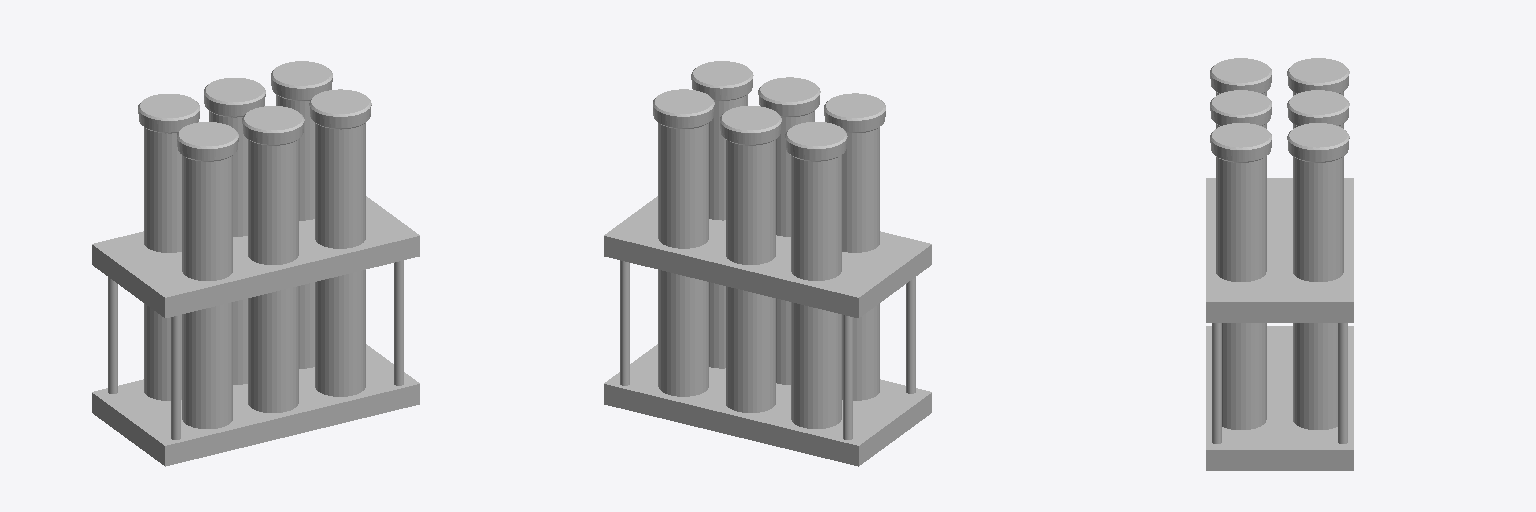
Rendered from Tubes in stand.obj.
The picture shows the model from 3 angles: view 1: azimuth 30°, elevation 25°; view 2: azimuth 150°, elevation 25°; view 3: azimuth 270°, elevation 25°; orthographic projection.
Visible parts, largest first — view 1: Tubes_in_stand_Cylinder.026; view 2: Tubes_in_stand_Cylinder.026; view 3: Tubes_in_stand_Cylinder.026.
Boxes of the visible parts, x1,y1,x2,y2 form: Tubes_in_stand_Cylinder.026: [92, 61, 419, 466]; Tubes_in_stand_Cylinder.026: [604, 61, 931, 466]; Tubes_in_stand_Cylinder.026: [1206, 58, 1353, 470].
Bounding box in the file's own units: 2.07 × 2.36 × 1.03.